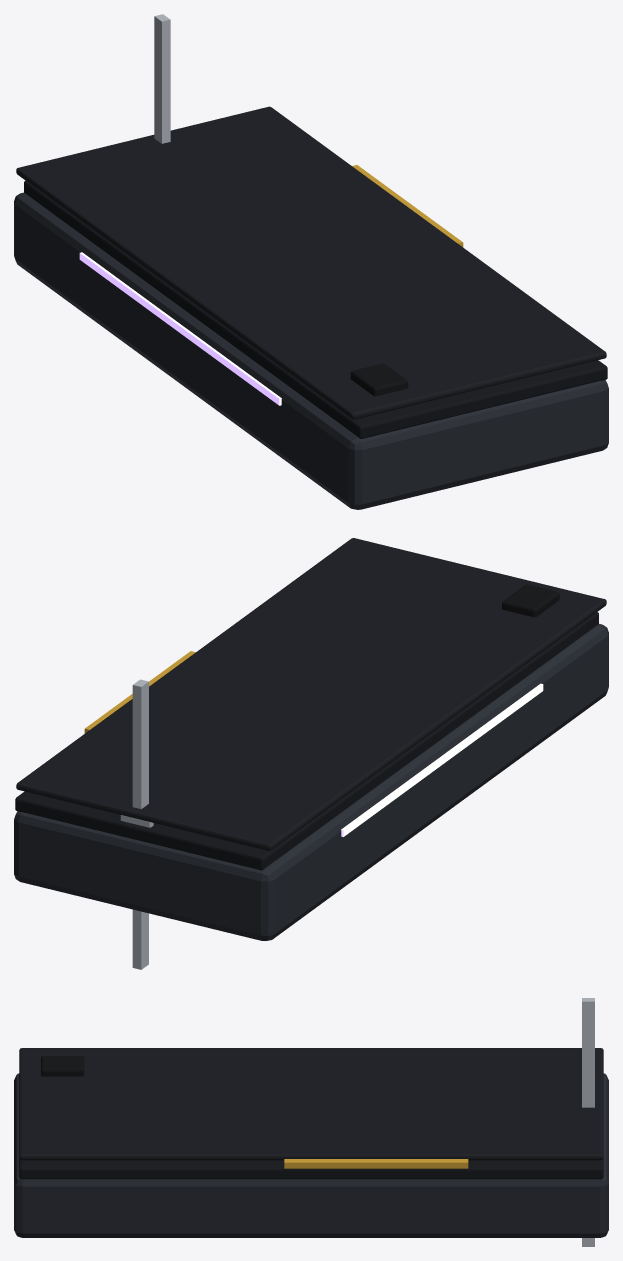
File: gpu.glb
3 views of the same model, one above another, from view 1: azimuth 30°, elevation 25°; view 2: azimuth 150°, elevation 25°; view 3: azimuth 270°, elevation 25° (orthographic). The views are drawn at different scales.
Visible parts, largest first — view 1: gpu; view 2: gpu; view 3: gpu.
Boxes of the visible parts, <box> form: gpu: <box>14,14,608,509</box>; gpu: <box>14,538,608,969</box>; gpu: <box>14,998,608,1246</box>.
Size of the model in its own units: 1.24 by 1.25 by 2.75.
